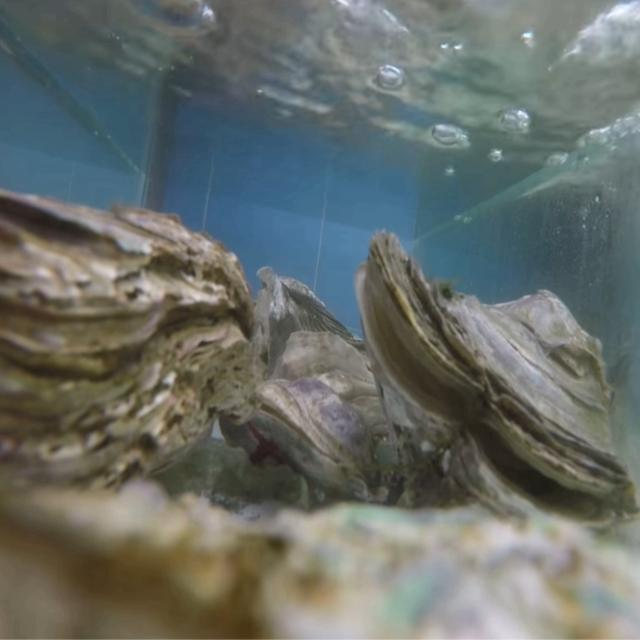Oyster-Closed: (0, 188, 256, 516), (250, 332, 412, 507)
Oyster-Indeterminate: (0, 478, 640, 640), (254, 266, 370, 383)
Oyster-Open: (355, 229, 640, 540)
